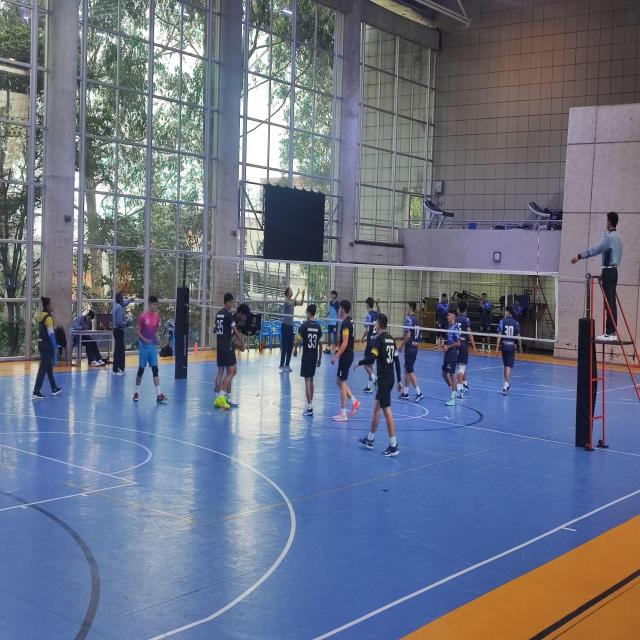volleyball: (125, 313, 134, 323)
